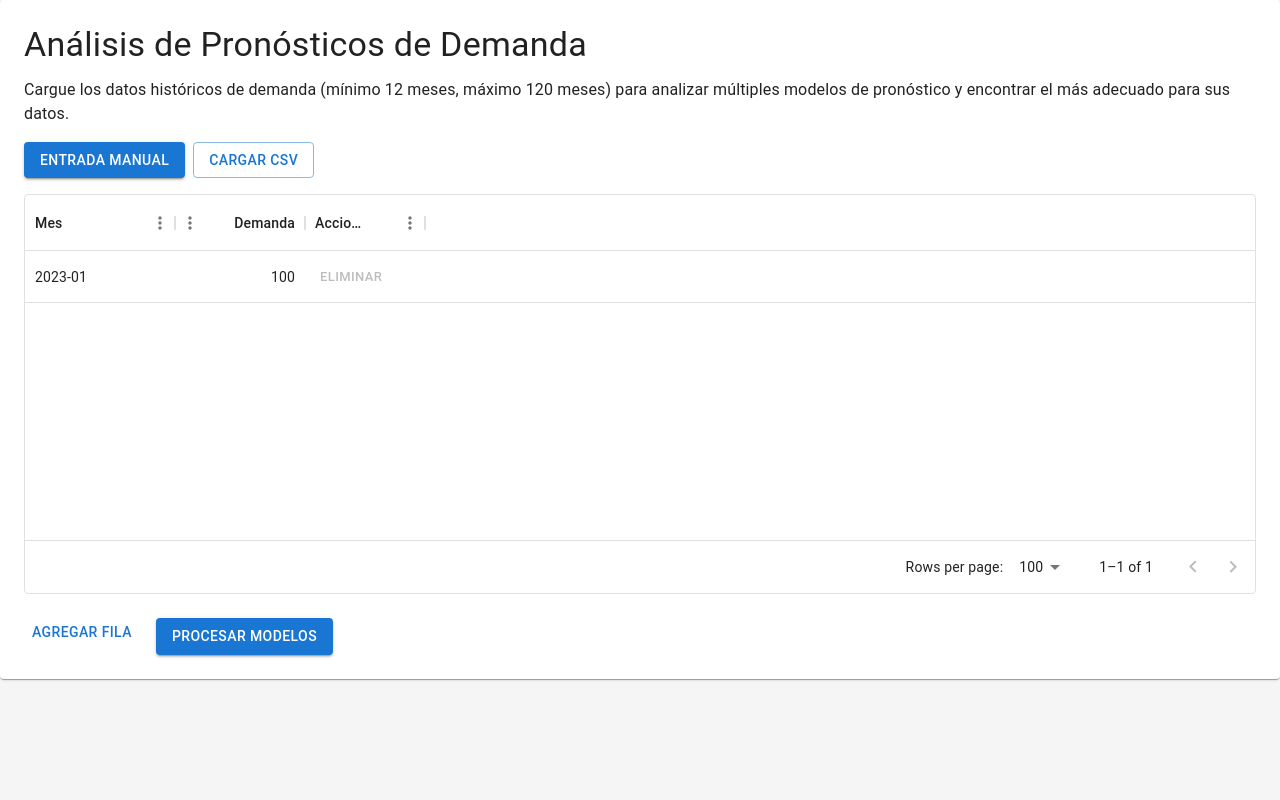
Scenario: DataInput Component › Manual Data Entry Mode › deletes row when delete button is clicked
The width and height of the screenshot is (1280, 800).
// Add a row first
Step 1. Click the button "Agregar Fila" → [82, 633], box [24,614,140,651]
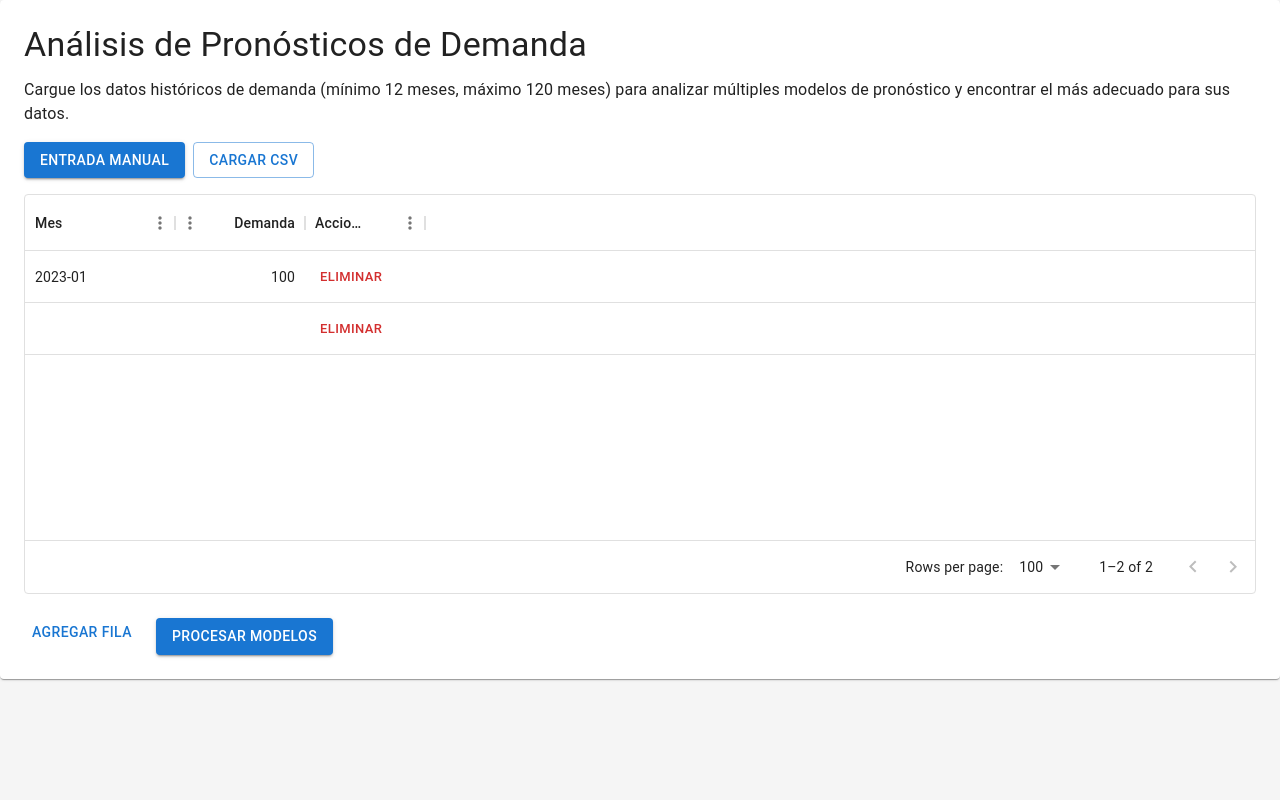
// Now delete one row
Step 2. Click the 2nd button "Eliminar" → [351, 329], box [315,314,387,344]
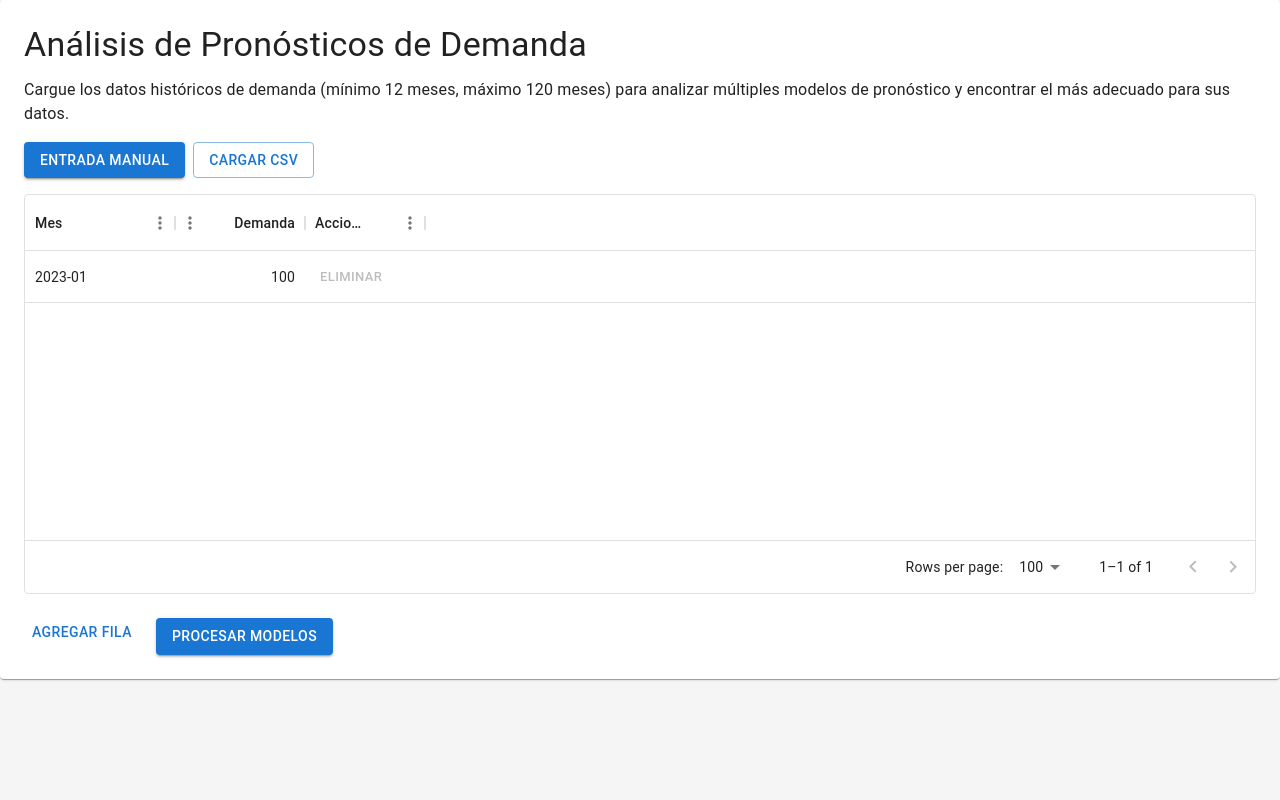
Result: the number of buttons "Eliminar" is 1 at [315,262,387,292]
